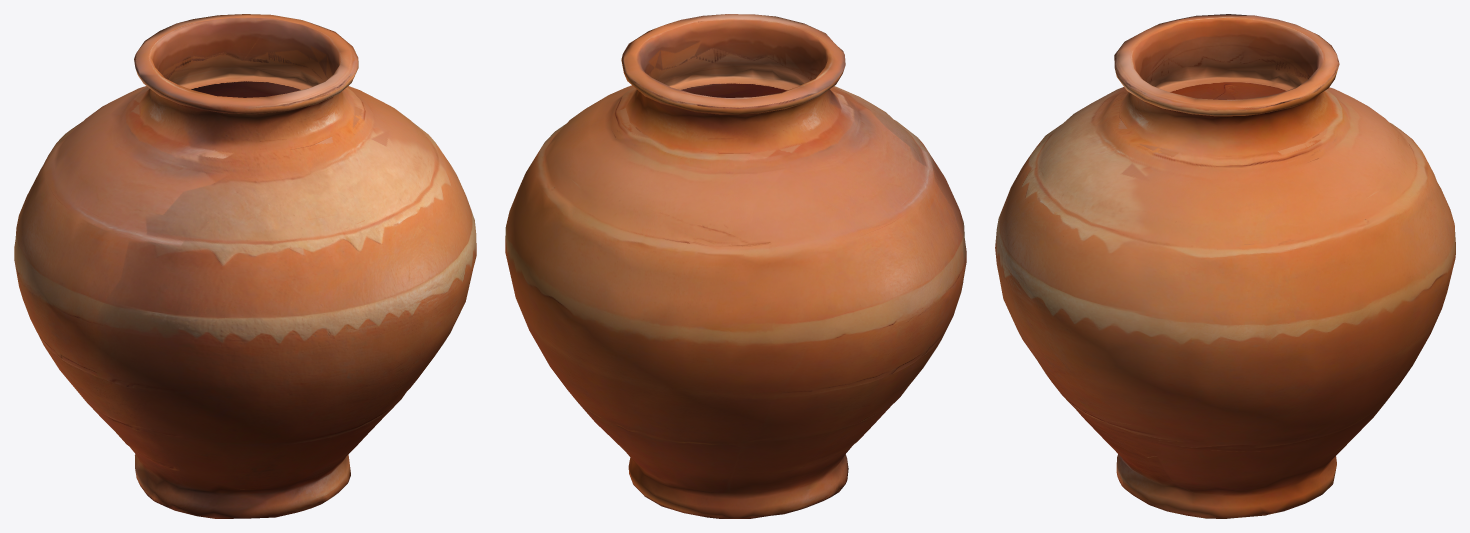
File: simple_pot.glb
3 views of the same model, side by side, from view 1: azimuth 30°, elevation 25°; view 2: azimuth 150°, elevation 25°; view 3: azimuth 270°, elevation 25° (orthographic).
Bounding box in the file's own units: 2 × 1.97 × 1.97.
Materials: 1 (1 with a texture image).
